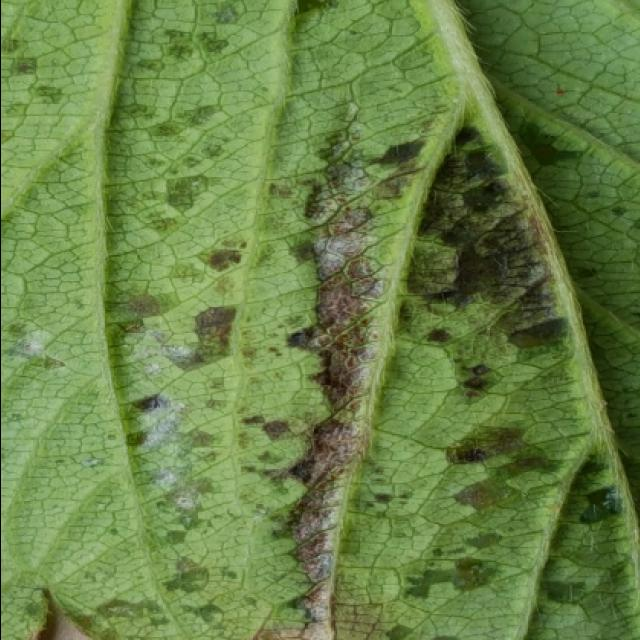Angular Leafspot: (2, 0, 640, 638)
